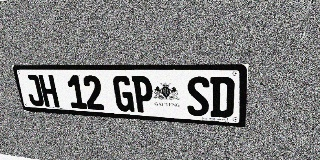1: (65, 75, 87, 109)
2: (82, 75, 104, 110)
D: (210, 77, 235, 118)
G: (112, 76, 135, 112)
H: (38, 75, 60, 107)
J: (23, 75, 45, 106)
P: (132, 76, 154, 113)
S: (186, 76, 209, 117)
